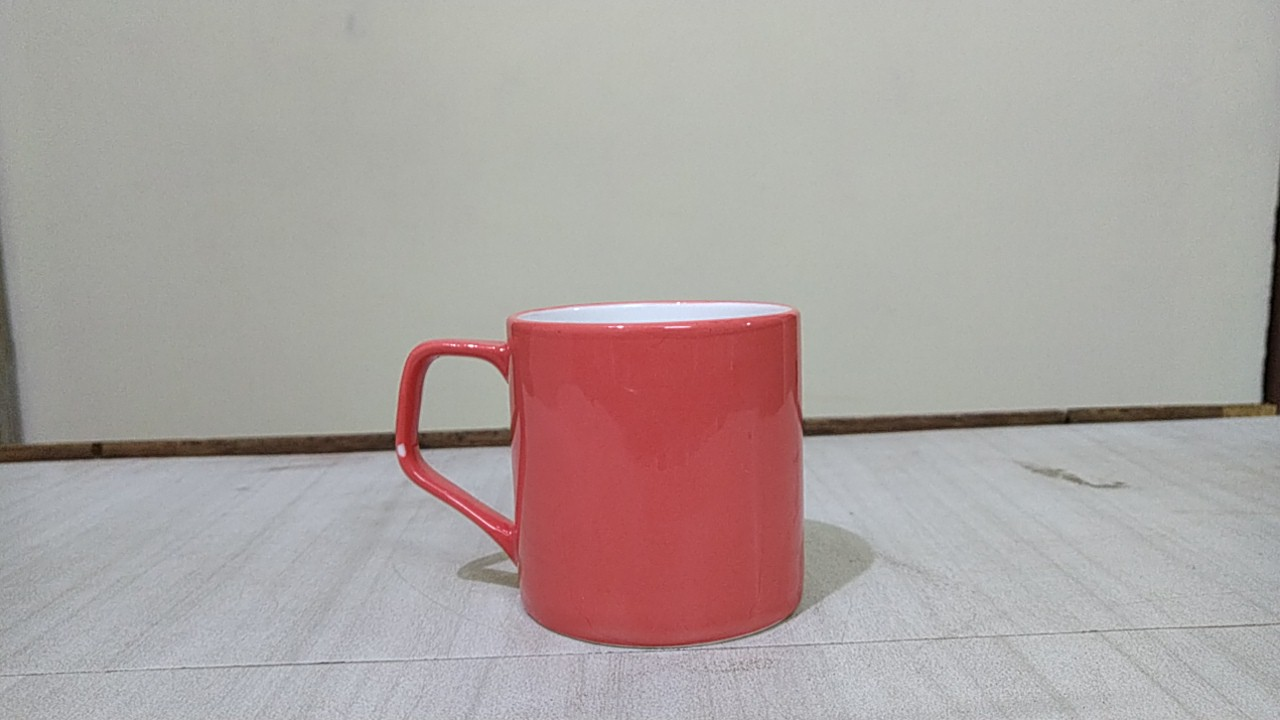cup: (379, 291, 869, 659)
